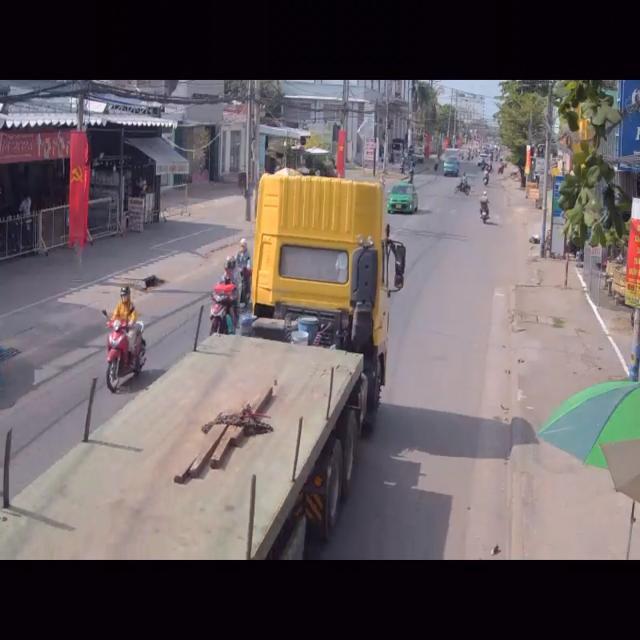car: (388, 178, 418, 215)
motorbike: (108, 286, 148, 393), (209, 251, 245, 334), (480, 191, 492, 225)
truck: (5, 175, 403, 562)
